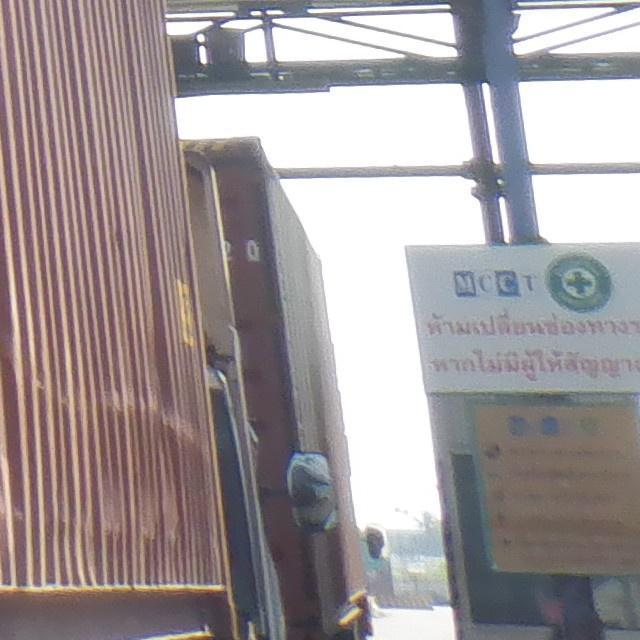dent: (141, 279, 185, 458)
